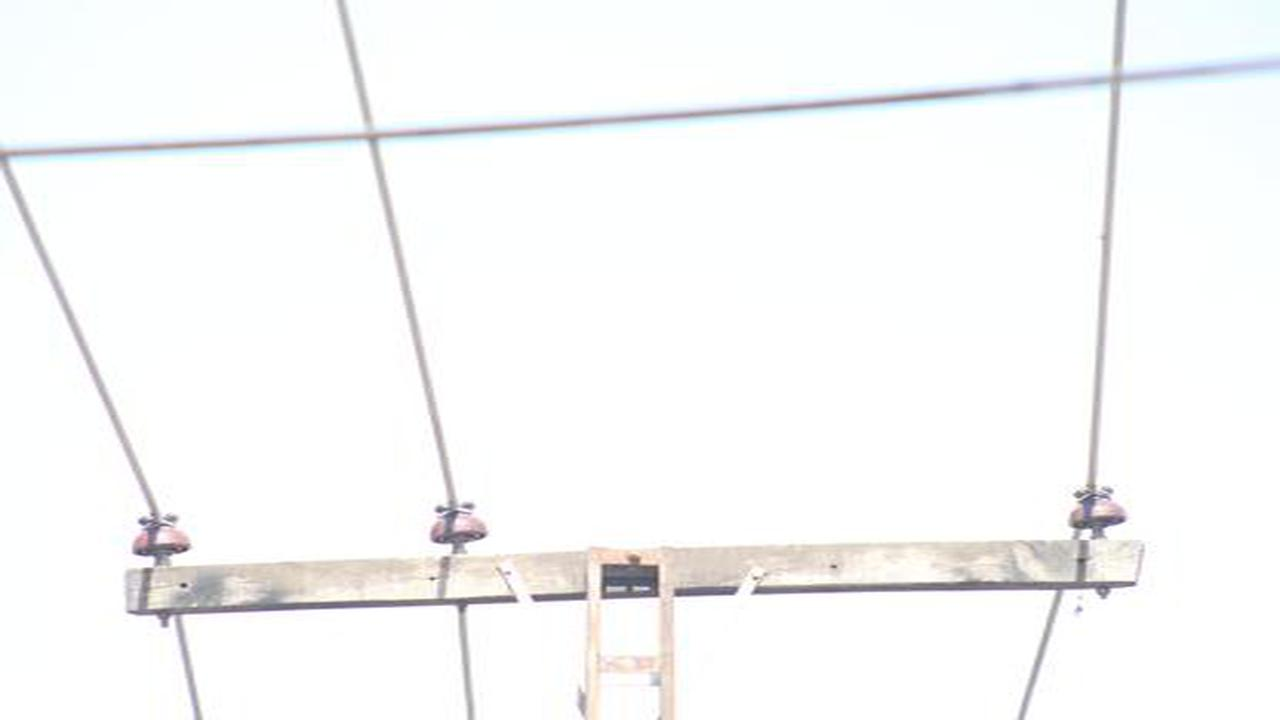insulator_pin: (427, 498, 493, 551), (130, 509, 196, 561), (1064, 485, 1132, 535)
